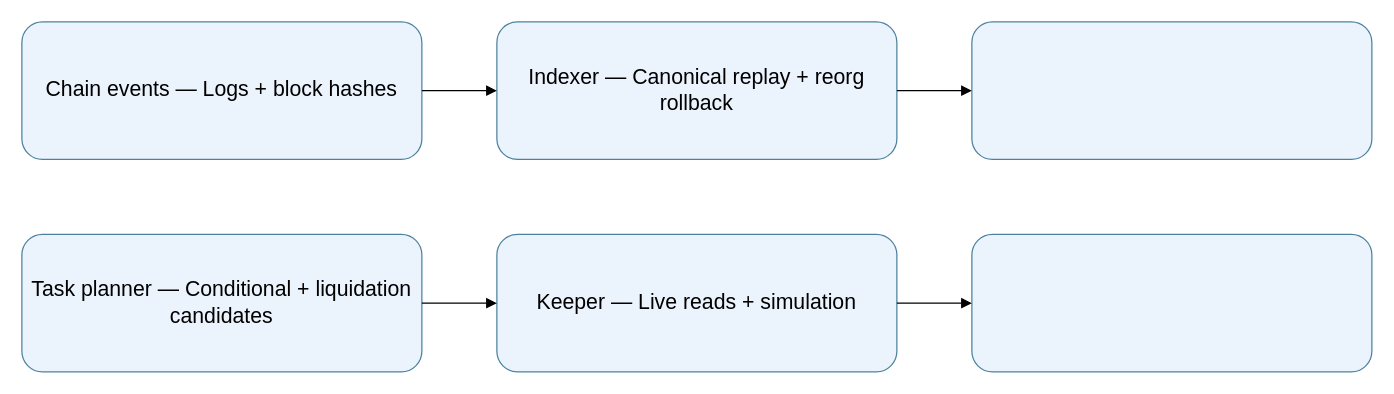
Some shapes in this 1394 by 394 pixel diagram are drawn without their labels. The shapes that lost their labels are listed below. From the top down, each one's centre as x and y in pixels, then its label:
At (x=1171, y=90): "Database — Durable checkpoint + read model".
At (x=1171, y=302): "EVM contracts — Signed transactions + emitted events".
